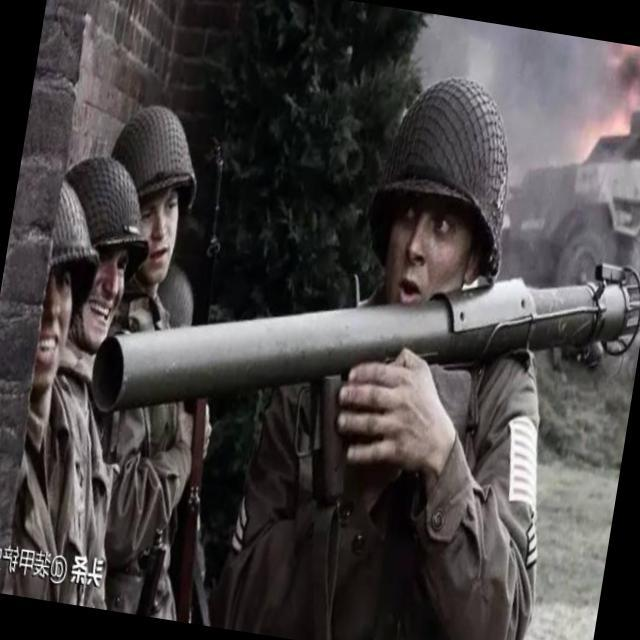rocket: (85, 179, 640, 494)
